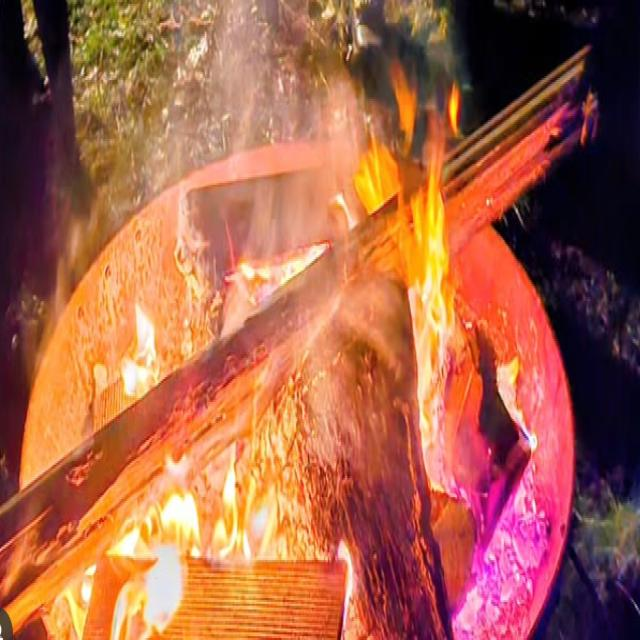fire: (42, 57, 538, 640)
